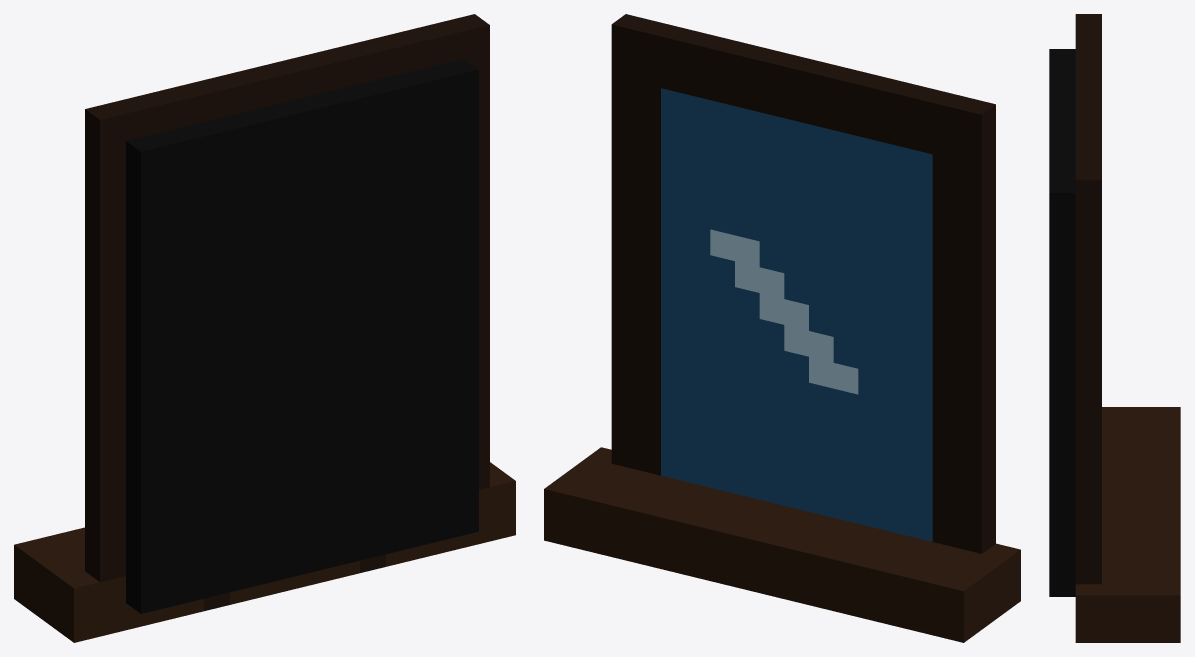
File: mirror.fbx
3 views of the same model, side by side, from view 1: azimuth 30°, elevation 25°; view 2: azimuth 150°, elevation 25°; view 3: azimuth 270°, elevation 25° (orthographic). The views are drawn at different scales.
Parts seen in each view (by area): view 1: VoxelMesh; view 2: VoxelMesh; view 3: VoxelMesh.
Part boxes in pixels (box(x1,y1,x2,y2)): VoxelMesh: box(14, 14, 515, 642); VoxelMesh: box(544, 14, 1020, 642); VoxelMesh: box(1049, 14, 1180, 642).
Bounding box in the file's own units: 17 × 19 × 5.
